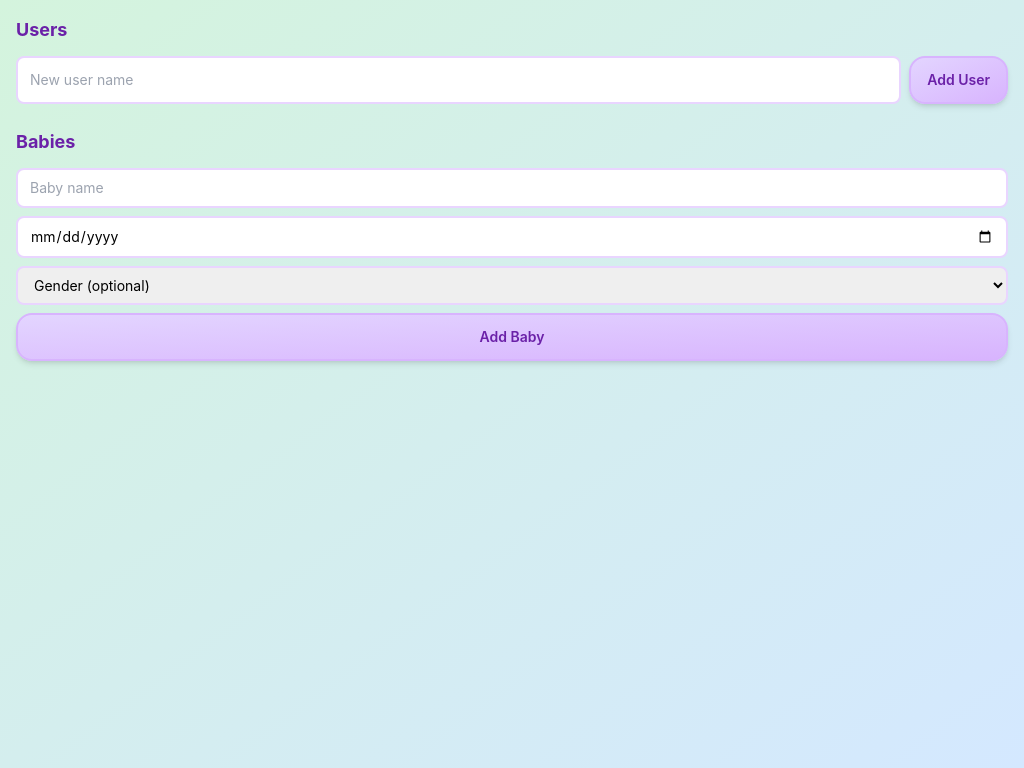
Test case: Admin — add baby › shows error when baby creation fails
Type "Baby C" into the field with placeholder "Baby name" at [512, 188], box [16, 168, 1008, 208]
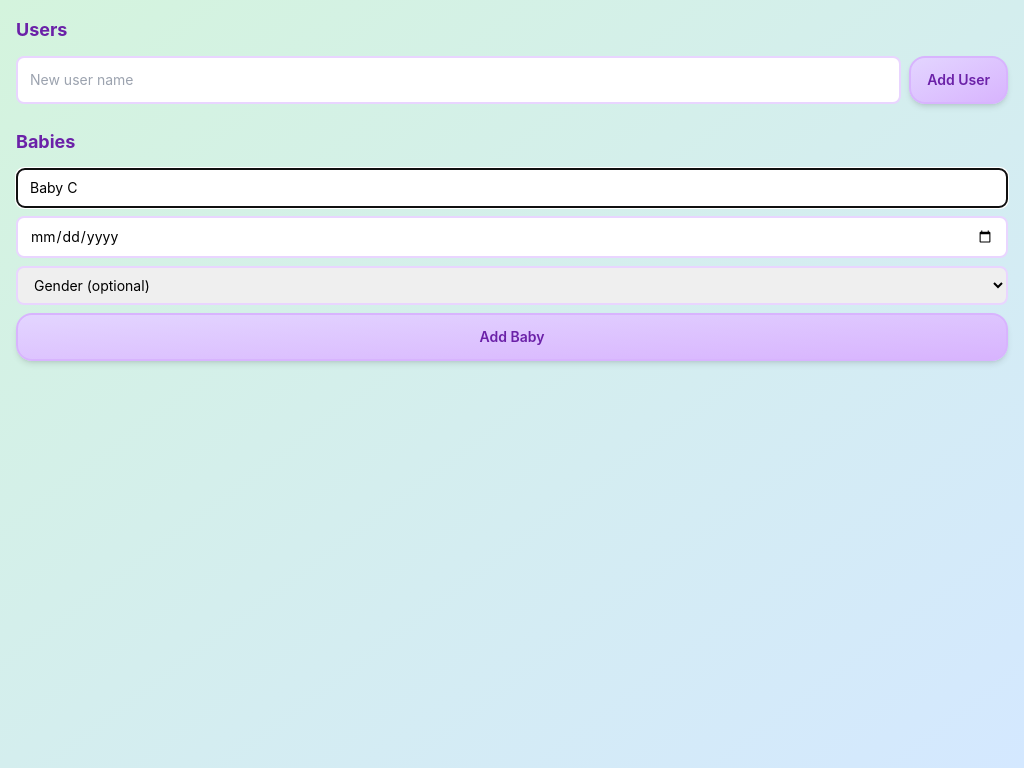
Type "2026-01-15" into the date field at [512, 237], box [16, 216, 1008, 258]
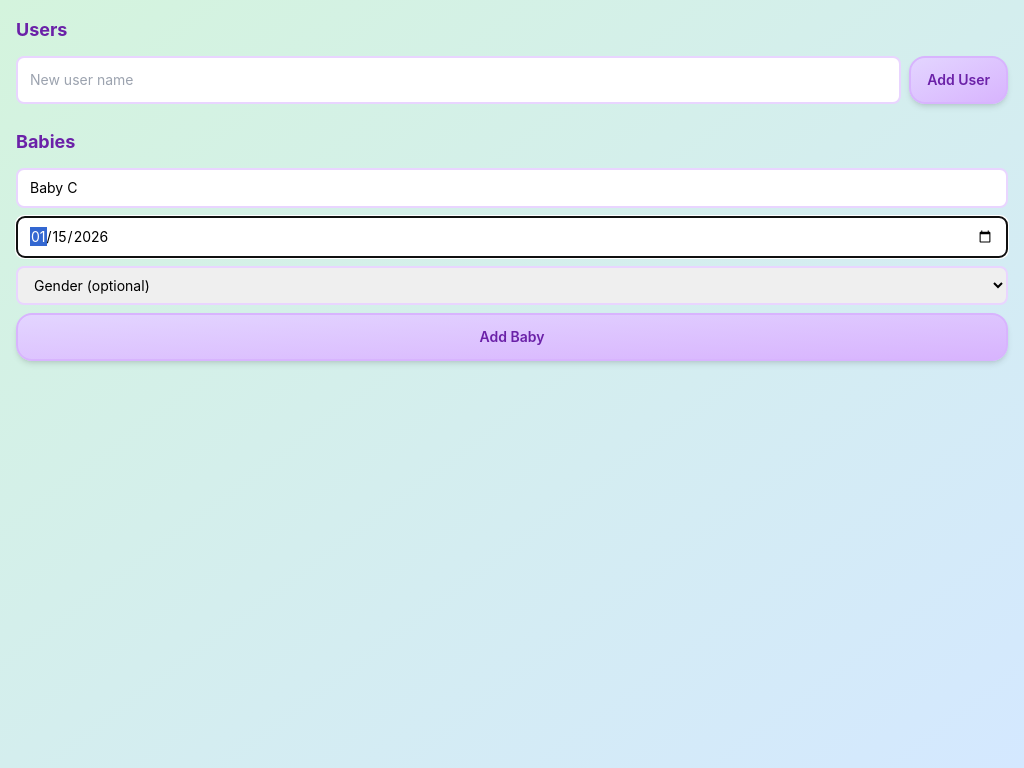
Click the button "Add Baby" at [512, 337], box [16, 313, 1008, 361]
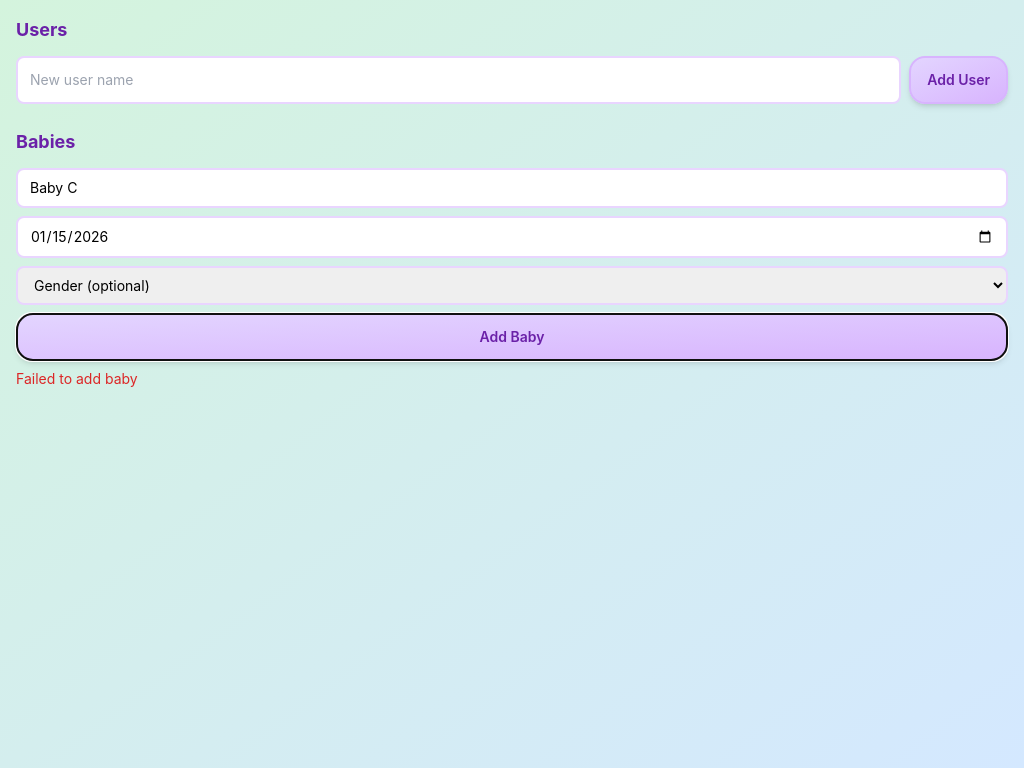
Expected: the text "Failed to add baby" is shown, [16, 370, 138, 387]
